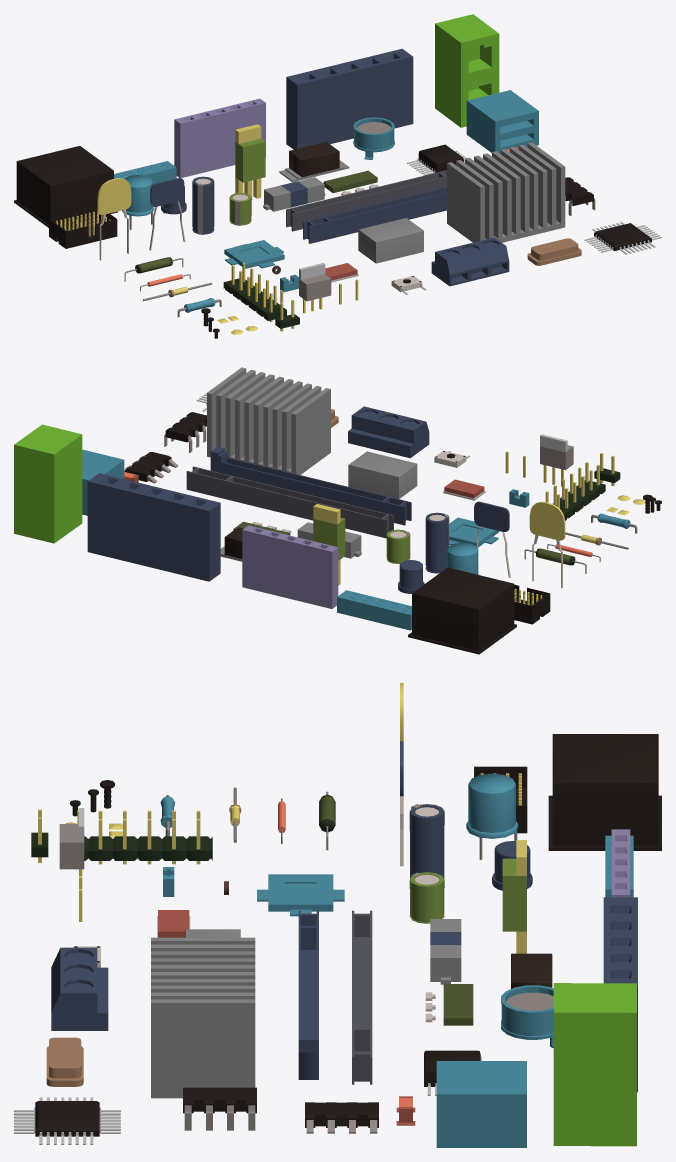
The model's file is Prop_stage1.fbx.
3 views of the same model, one above another, from view 1: azimuth 30°, elevation 25°; view 2: azimuth 150°, elevation 25°; view 3: azimuth 270°, elevation 25° (orthographic). The views are drawn at different scales.
Visible parts, largest first — view 1: Prop_stage1_013, Prop_stage1_003, Prop_stage1_061, Prop_stage1_000, Prop_stage1_002, Prop_stage1_062, Prop_stage1_028, Prop_stage1_023, Prop_stage1_017, Prop_stage1_034, Prop_stage1_018, Prop_stage1_004 (+19 smaller); view 2: Prop_stage1_003, Prop_stage1_013, Prop_stage1_061, Prop_stage1_000, Prop_stage1_002, Prop_stage1_023, Prop_stage1_028, Prop_stage1_017, Prop_stage1_034, Prop_stage1_001, Prop_stage1_024, Prop_stage1_018 (+17 smaller); view 3: Prop_stage1_013, Prop_stage1_061, Prop_stage1_000, Prop_stage1_062, Prop_stage1_017, Prop_stage1_023, Prop_stage1_028, Prop_stage1_003, Prop_stage1_021, Prop_stage1_038, Prop_stage1_011, Prop_stage1_005 (+19 smaller).
Boxes of the visible parts, bbox=[...] form: Prop_stage1_013: bbox=[447, 142, 565, 242]; Prop_stage1_003: bbox=[286, 48, 413, 149]; Prop_stage1_061: bbox=[435, 14, 499, 127]; Prop_stage1_000: bbox=[14, 146, 117, 227]; Prop_stage1_002: bbox=[174, 98, 265, 177]; Prop_stage1_062: bbox=[466, 90, 538, 153]; Prop_stage1_028: bbox=[303, 186, 446, 243]; Prop_stage1_023: bbox=[286, 170, 446, 231]; Prop_stage1_017: bbox=[431, 237, 509, 286]; Prop_stage1_034: bbox=[358, 218, 423, 263]; Prop_stage1_018: bbox=[235, 124, 265, 199]; Prop_stage1_004: bbox=[49, 207, 117, 248]; Prop_stage1_003: bbox=[87, 473, 220, 581]; Prop_stage1_013: bbox=[207, 367, 330, 474]; Prop_stage1_061: bbox=[14, 424, 82, 543]; Prop_stage1_000: bbox=[408, 567, 516, 654]; Prop_stage1_002: bbox=[242, 525, 338, 608]; Prop_stage1_023: bbox=[186, 466, 393, 538]; Prop_stage1_028: bbox=[210, 446, 411, 525]; Prop_stage1_017: bbox=[348, 406, 429, 458]; Prop_stage1_034: bbox=[348, 451, 417, 498]; Prop_stage1_001: bbox=[337, 590, 411, 630]; Prop_stage1_024: bbox=[529, 501, 565, 588]; Prop_stage1_018: bbox=[313, 504, 345, 585]; Prop_stage1_013: bbox=[151, 937, 255, 1098]; Prop_stage1_061: bbox=[553, 983, 636, 1146]; Prop_stage1_000: bbox=[548, 734, 661, 850]; Prop_stage1_062: bbox=[436, 1061, 526, 1147]; Prop_stage1_017: bbox=[51, 947, 108, 1030]; Prop_stage1_023: bbox=[352, 910, 372, 1084]; Prop_stage1_028: bbox=[298, 910, 318, 1079]; Prop_stage1_003: bbox=[603, 897, 637, 1092]; Prop_stage1_021: bbox=[466, 773, 518, 838]; Prop_stage1_038: bbox=[84, 836, 212, 860]; Prop_stage1_011: bbox=[257, 874, 344, 916]; Prop_stage1_005: bbox=[501, 985, 553, 1047].
Bounding box in the file's own units: 24.62 × 4.81 × 19.04.
1 material, 1 textured.
